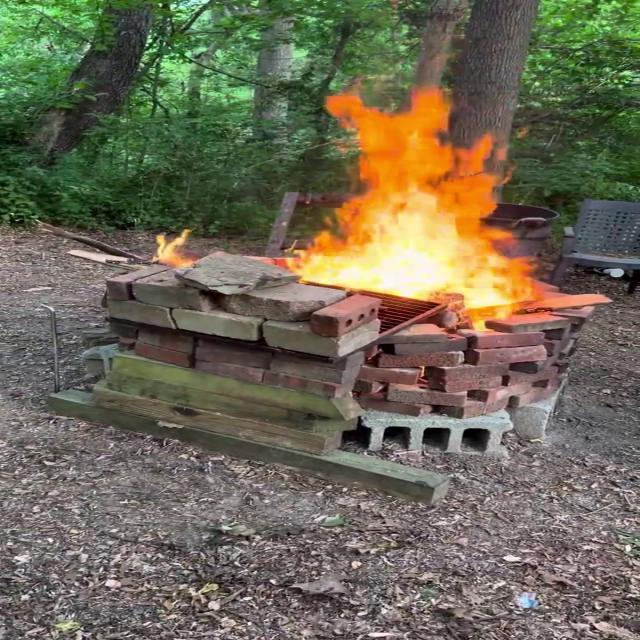Fire: (278, 65, 558, 324)
